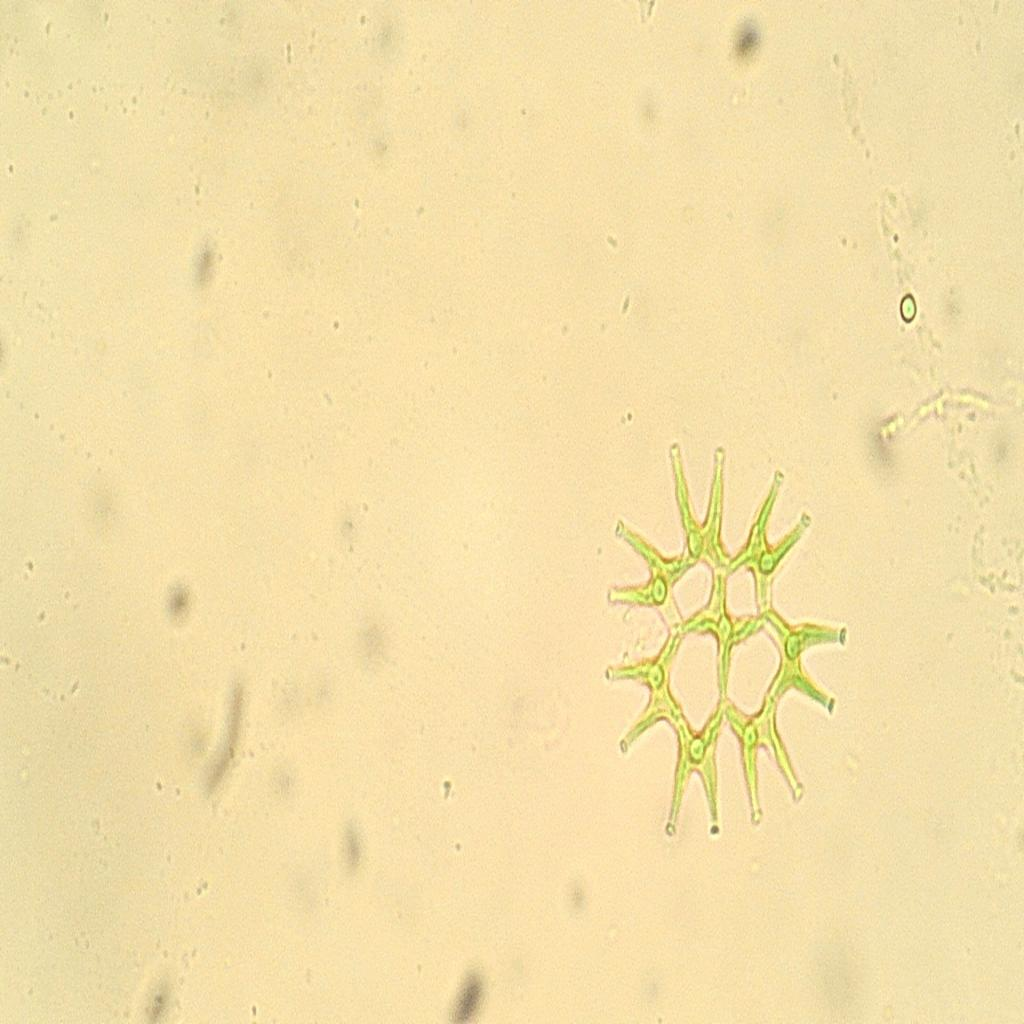Pediastrum_CTH: (595, 432, 862, 872)
